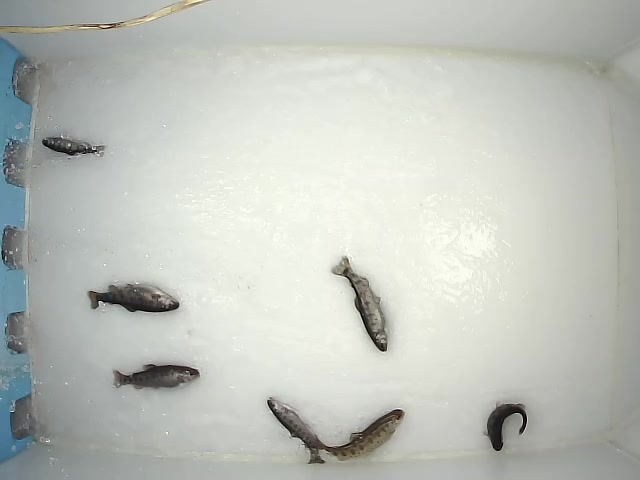fish: (330, 255, 389, 353), (306, 408, 405, 463), (266, 396, 326, 465), (86, 282, 180, 313), (110, 362, 201, 392), (482, 400, 529, 453), (41, 136, 106, 159)
